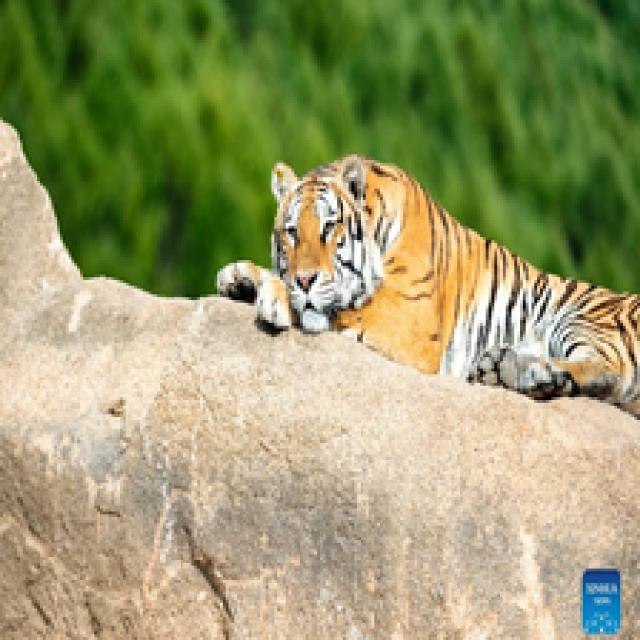tiger: (209, 148, 640, 422)
